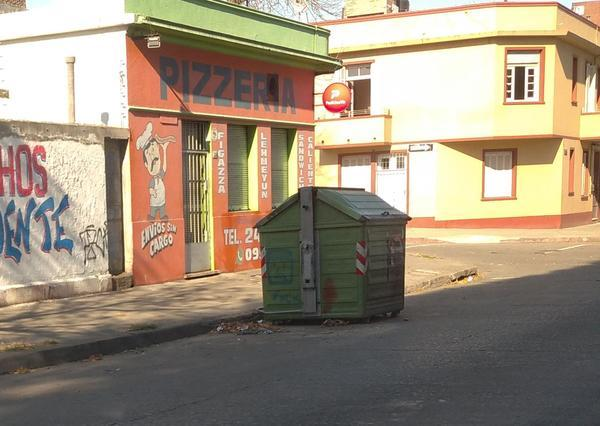Trash: (256, 187, 410, 319)
